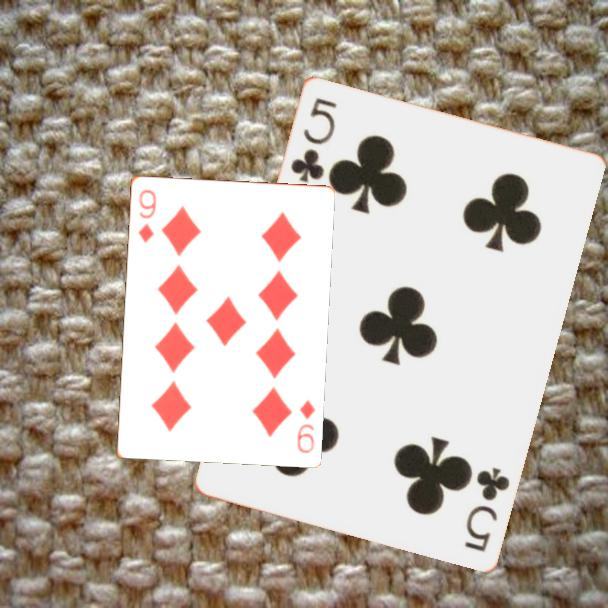c05: (286, 93, 340, 185), (461, 463, 513, 555)
d09: (293, 396, 318, 456), (135, 186, 159, 245)
